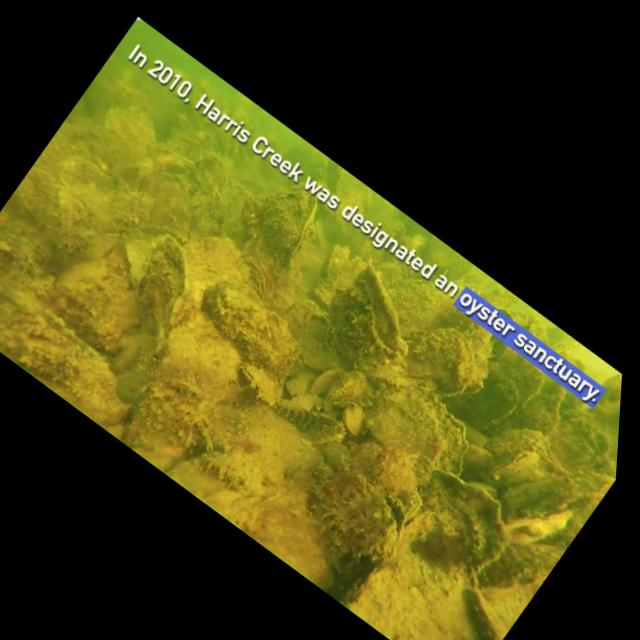Oyster-Closed: (223, 153, 354, 292), (481, 433, 550, 509)
Oyster-Indeterminate: (326, 345, 508, 531), (0, 269, 159, 440), (267, 436, 428, 603), (392, 450, 532, 585), (101, 222, 222, 355), (387, 296, 501, 411), (149, 310, 258, 422), (168, 200, 268, 303), (496, 480, 587, 573), (191, 267, 282, 356), (431, 563, 529, 640), (416, 281, 508, 363), (487, 340, 569, 427), (43, 237, 121, 320), (88, 94, 168, 174), (136, 160, 212, 240), (483, 401, 561, 478), (312, 351, 381, 431), (550, 444, 617, 525), (461, 365, 526, 440), (184, 141, 248, 209), (143, 128, 209, 190), (449, 429, 509, 489), (189, 181, 243, 238), (78, 222, 123, 273), (308, 356, 350, 407), (330, 397, 374, 443), (279, 361, 321, 407), (53, 219, 91, 264)
Oyster-Open: (299, 250, 451, 402), (569, 359, 623, 457), (227, 353, 297, 422), (169, 407, 227, 463), (229, 253, 285, 309), (0, 227, 20, 272)
